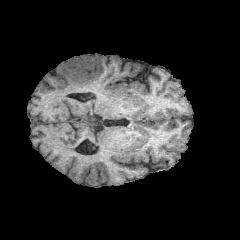glioma: (55, 55, 104, 87)
